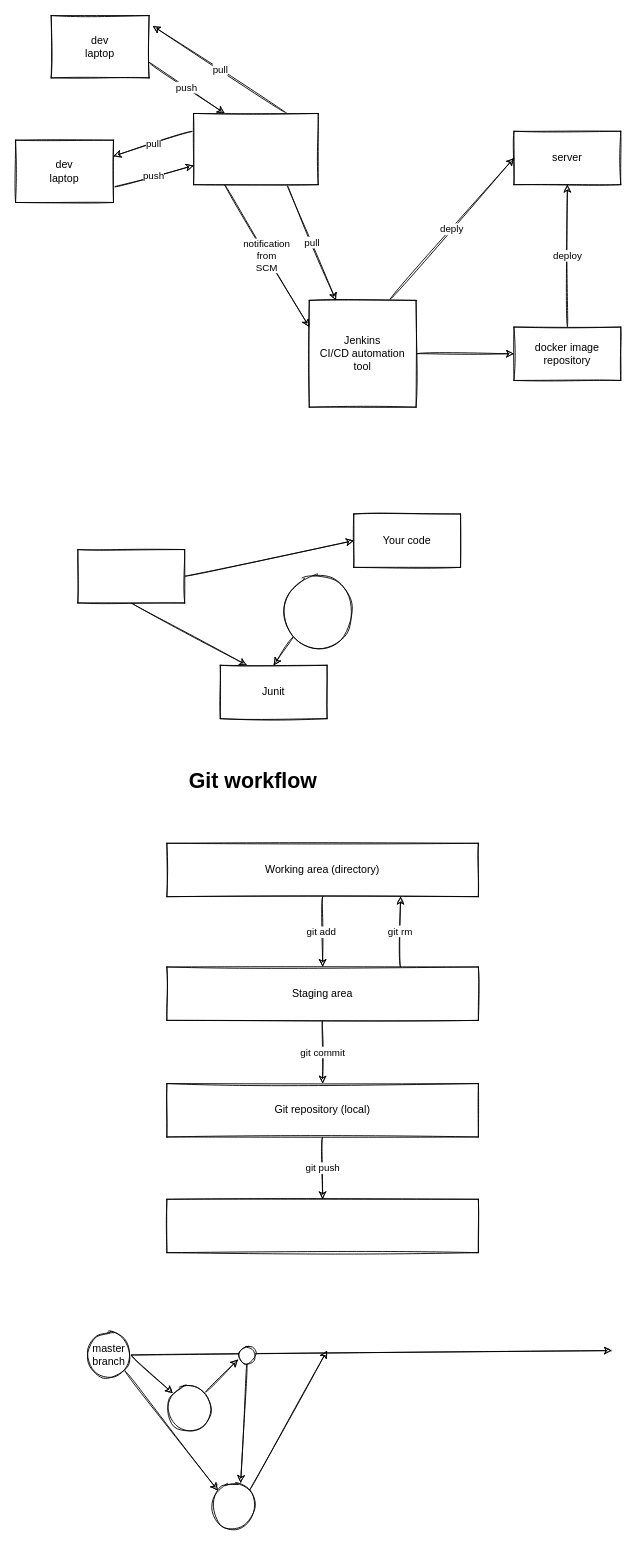
Some shapes in this 636 by 1544 pixel diagram are drawn without their labels. Here are the shapes that lost their labels. From the top down, the box of each, then its label:
(193, 113, 318, 185): SCM github/gitlab/bitbucket
(77, 549, 185, 603): My code
(282, 575, 354, 647): mock of your code
(166, 1198, 478, 1253): Git repository (Remote)
(166, 1385, 211, 1431): branch: b1
(210, 1483, 256, 1529): branch: b2
